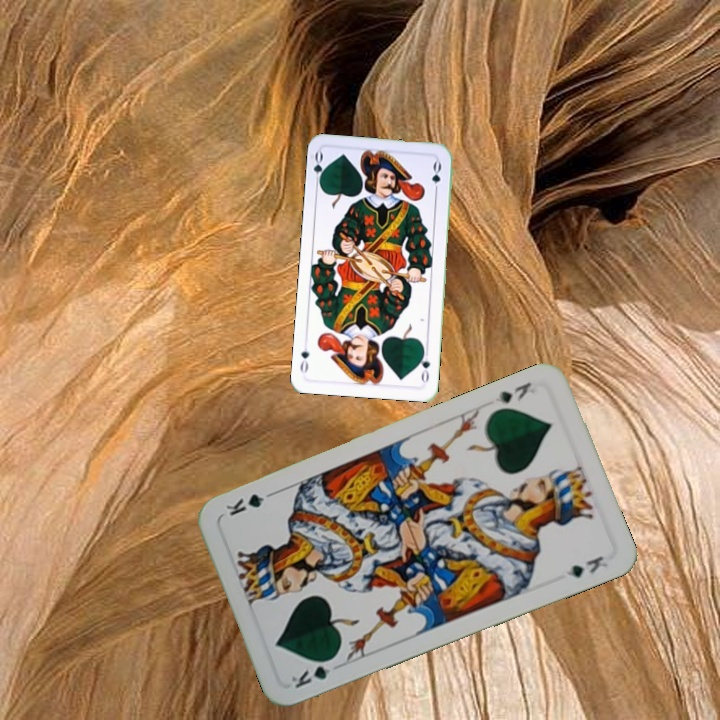GK: (287, 653, 343, 691), (491, 377, 538, 406)
GO: (309, 148, 329, 189), (416, 345, 433, 386)
